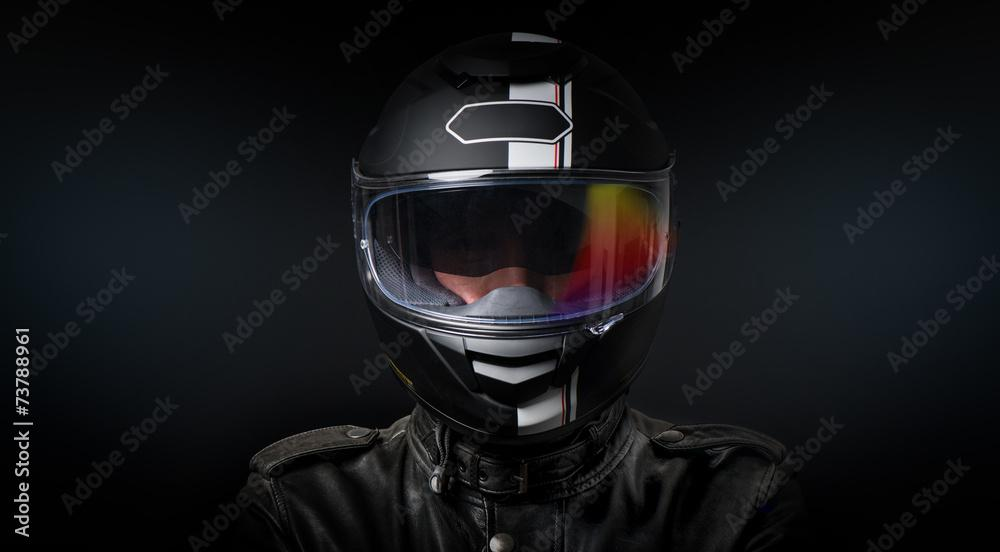helmet: (348, 29, 684, 448)
